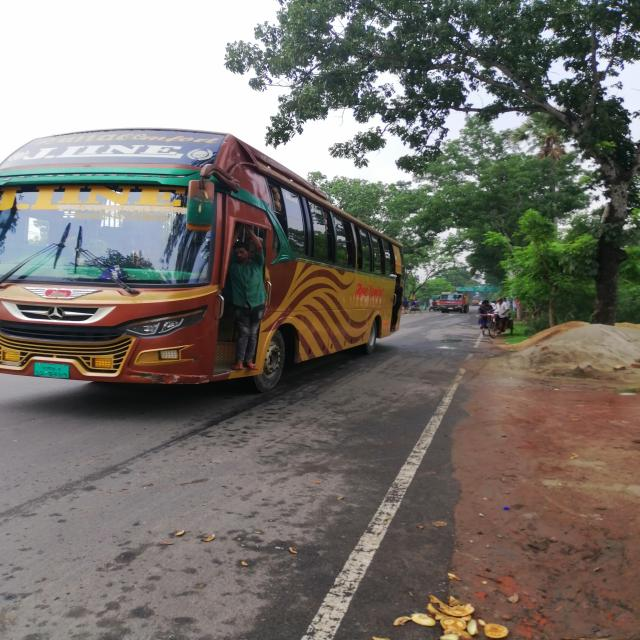Bus: (1, 130, 426, 400)
